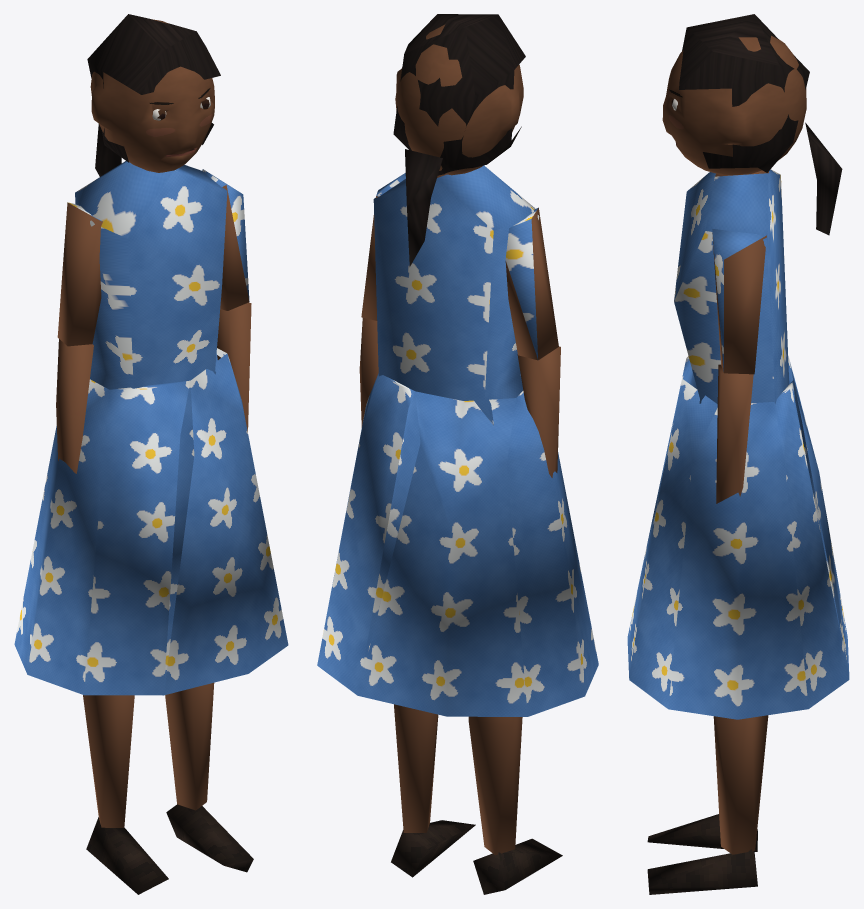
The model's file is persona_nina_b_lod.obj.
The picture shows the model from 3 angles, left to right: view 1: azimuth 30°, elevation 25°; view 2: azimuth 150°, elevation 25°; view 3: azimuth 270°, elevation 25°; orthographic projection. The views are drawn at different scales.
Visible parts, largest first — view 1: Falda, Torso, Cabeza, PiernaDer, PiernaIzq, Pelo, BrazoDer, AntebrazoDer, BrazoIzq, AntebrazoIzq; view 2: Falda, Torso, Pelo, PiernaDer, Cabeza, PiernaIzq, BrazoDer, AntebrazoDer, AntebrazoIzq, BrazoIzq; view 3: Falda, Torso, Pelo, Cabeza, PiernaIzq, BrazoIzq, AntebrazoIzq, PiernaDer.
Part boxes in pixels (<box>): Falda: <box>14,348,288,695</box>; Torso: <box>75,161,227,389</box>; Cabeza: <box>90,19,214,172</box>; PiernaDer: <box>83,695,168,894</box>; PiernaIzq: <box>165,682,253,872</box>; Pelo: <box>87,14,220,176</box>; BrazoDer: <box>57,202,102,346</box>; AntebrazoDer: <box>56,339,93,473</box>; BrazoIzq: <box>202,169,249,310</box>; AntebrazoIzq: <box>217,302,251,431</box>; Falda: <box>317,373,598,716</box>; Torso: <box>373,165,539,425</box>; Pelo: <box>393,14,525,266</box>; PiernaDer: <box>468,716,562,894</box>; Cabeza: <box>395,24,523,175</box>; PiernaIzq: <box>391,704,475,877</box>; BrazoDer: <box>505,207,558,360</box>; AntebrazoDer: <box>517,346,560,477</box>; AntebrazoIzq: <box>359,318,378,427</box>; BrazoIzq: <box>361,173,405,320</box>; Falda: <box>627,356,849,719</box>; Torso: <box>674,169,789,404</box>; Pelo: <box>679,14,842,235</box>; Cabeza: <box>662,35,806,175</box>; PiernaIzq: <box>647,715,768,894</box>; BrazoIzq: <box>712,229,766,374</box>; AntebrazoIzq: <box>716,364,753,503</box>; PiernaDer: <box>647,814,757,851</box>.
Size of the model in its own units: 0.3554 by 1.15 by 0.2726.
Materials: 9 (9 with a texture image).
